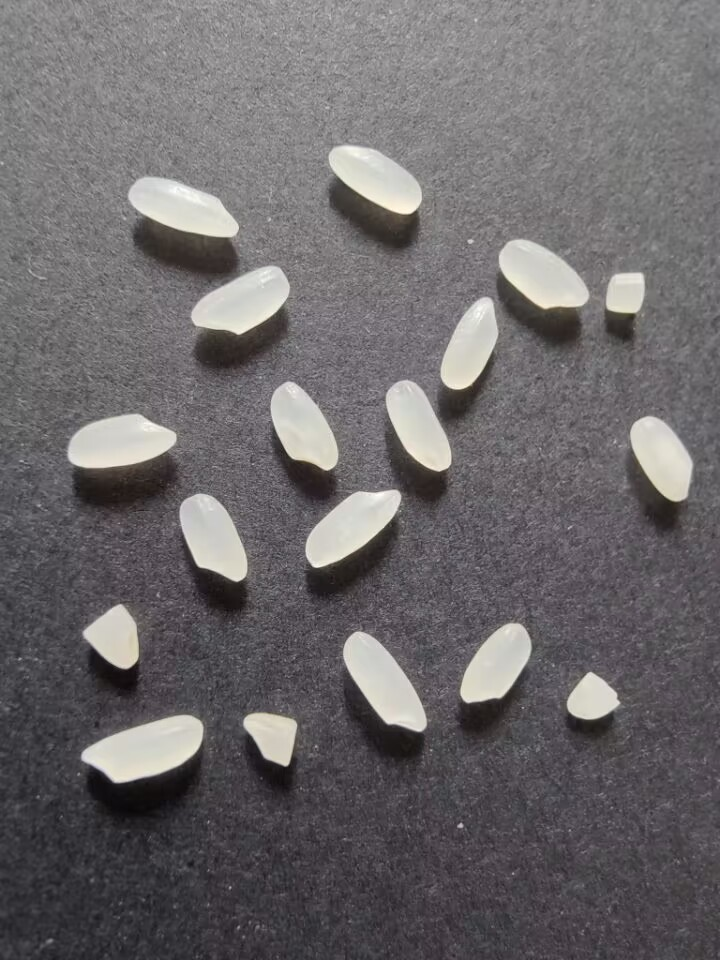broken: (76, 599, 151, 675), (236, 708, 306, 769), (562, 668, 630, 727), (601, 261, 651, 325)
rice: (340, 626, 431, 740), (78, 710, 209, 786), (301, 486, 410, 572), (179, 259, 293, 338), (323, 138, 427, 222), (121, 170, 245, 240), (492, 235, 595, 313), (453, 616, 538, 709), (172, 489, 249, 591), (59, 410, 182, 472), (268, 376, 342, 476), (382, 377, 453, 477), (625, 412, 697, 506), (435, 292, 500, 393)
